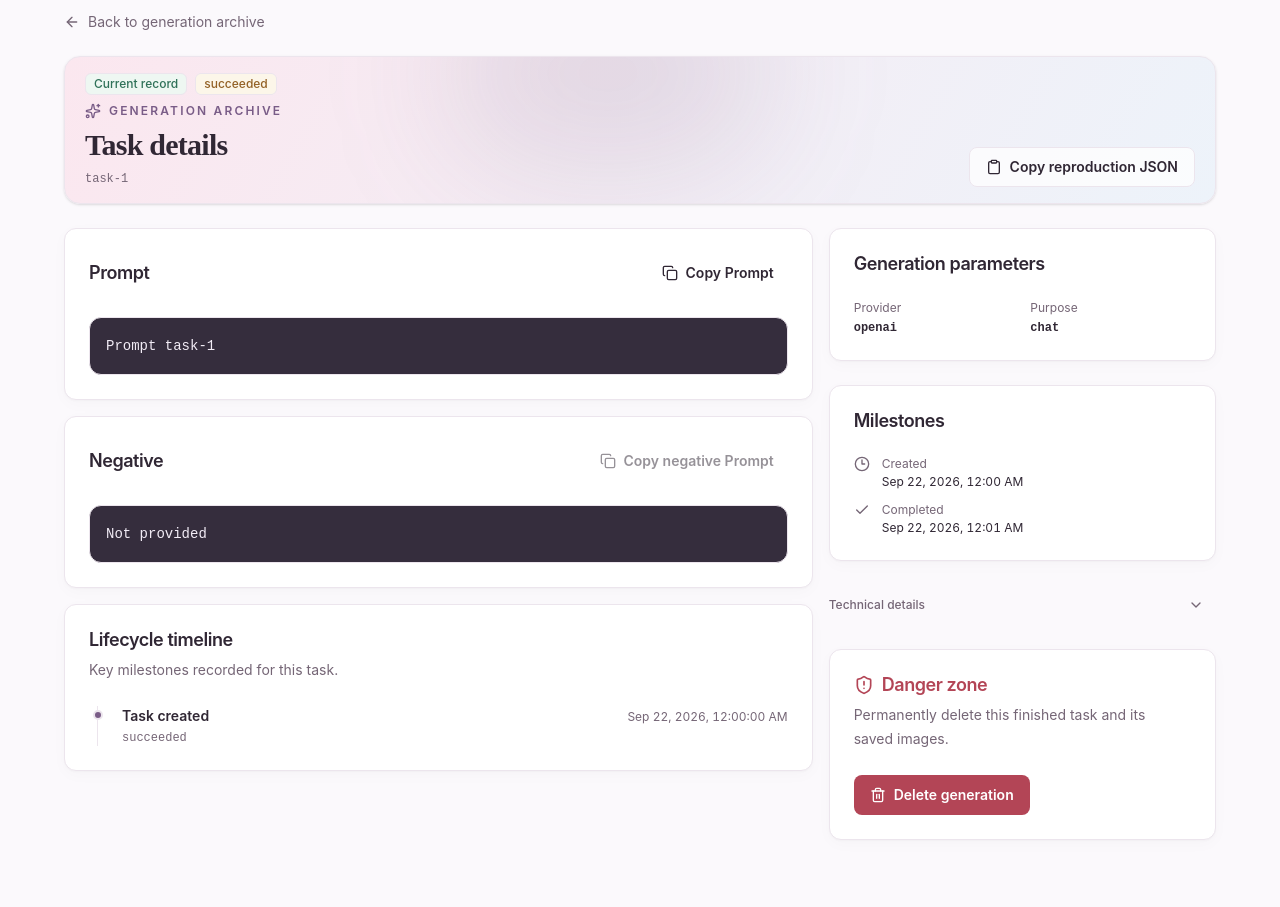
Test: uses the full deletion check when a detail retry follows a failed recovery read
This screenshot has width=1280, height=907.
Click the button "Delete generation": (942, 794) [854,774,1030,814]
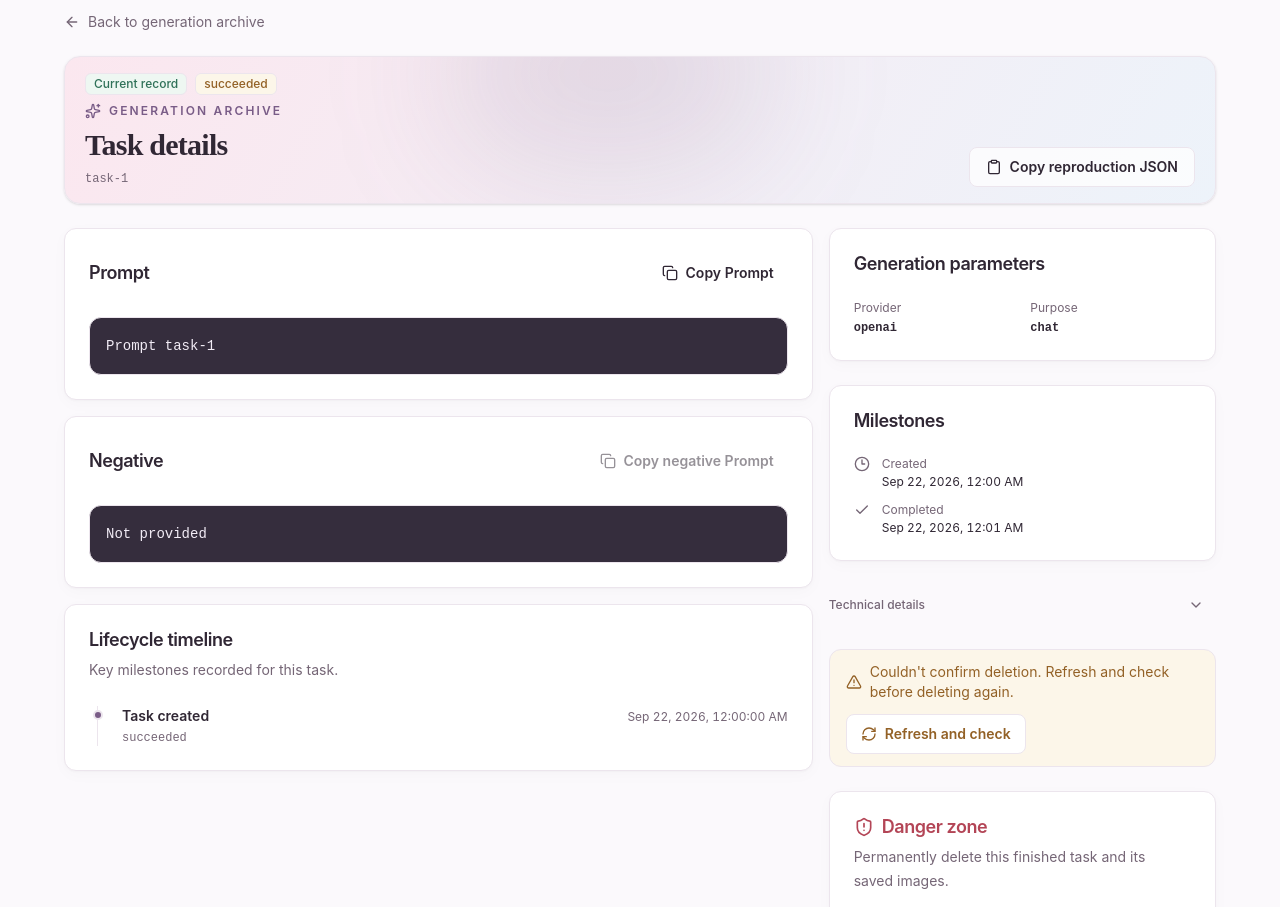
Click the button "Refresh and check": (936, 734) [846,714,1026,754]
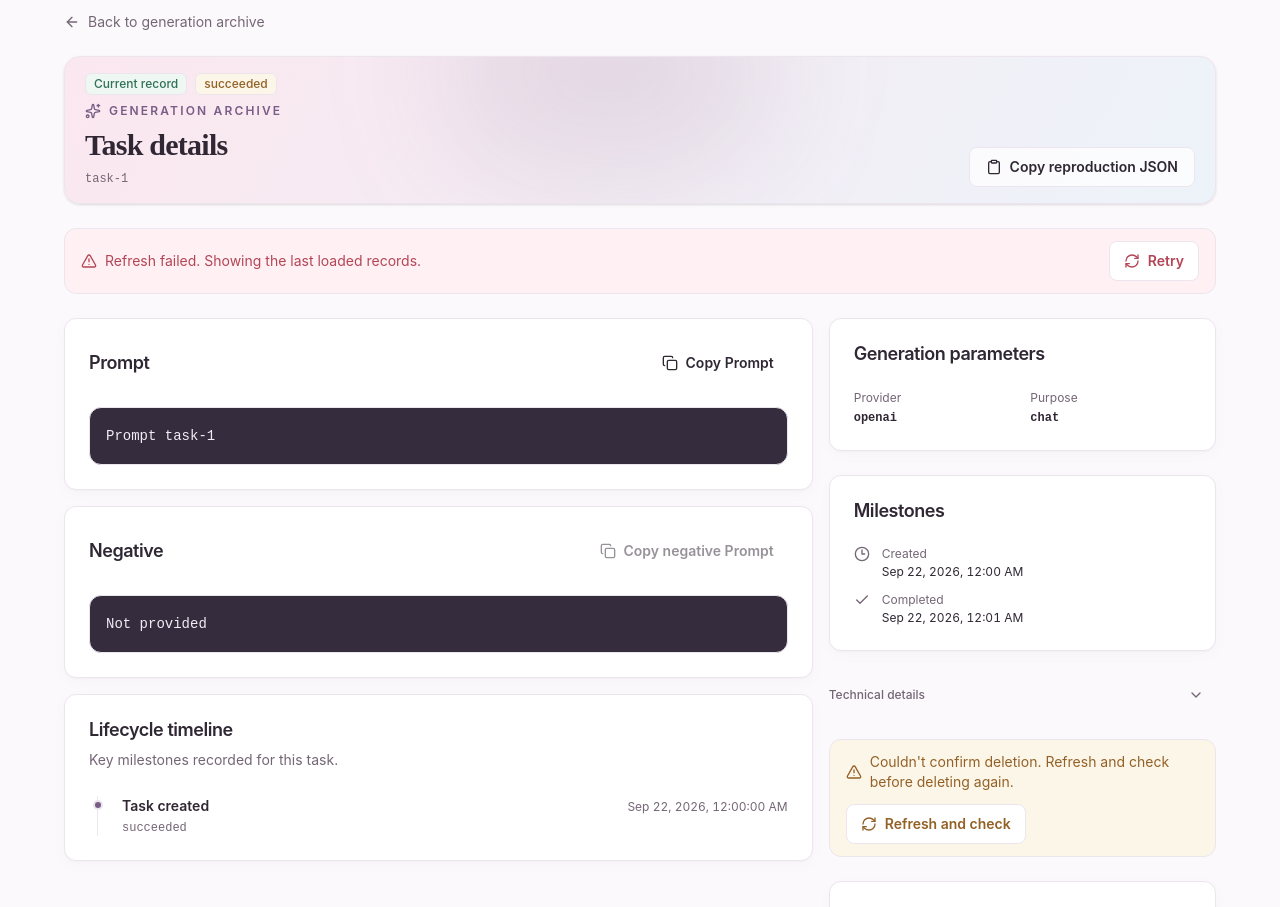
Click the button "Retry": (1154, 261) [1109,241,1199,281]
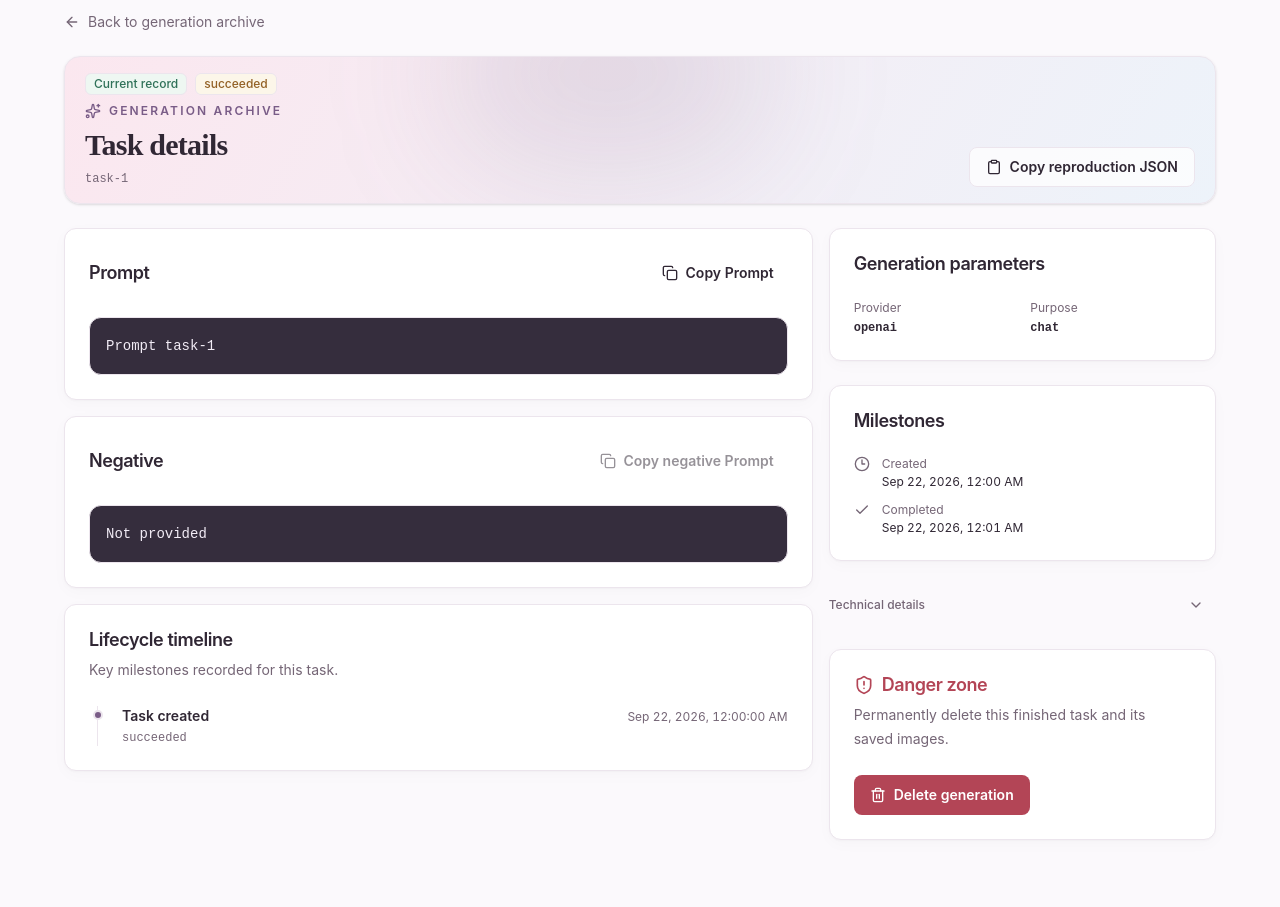
Expected: the heading "Task details" is shown, [85,128,228,161]
Result: the button "Delete generation" is enabled at [854,774,1030,814]
